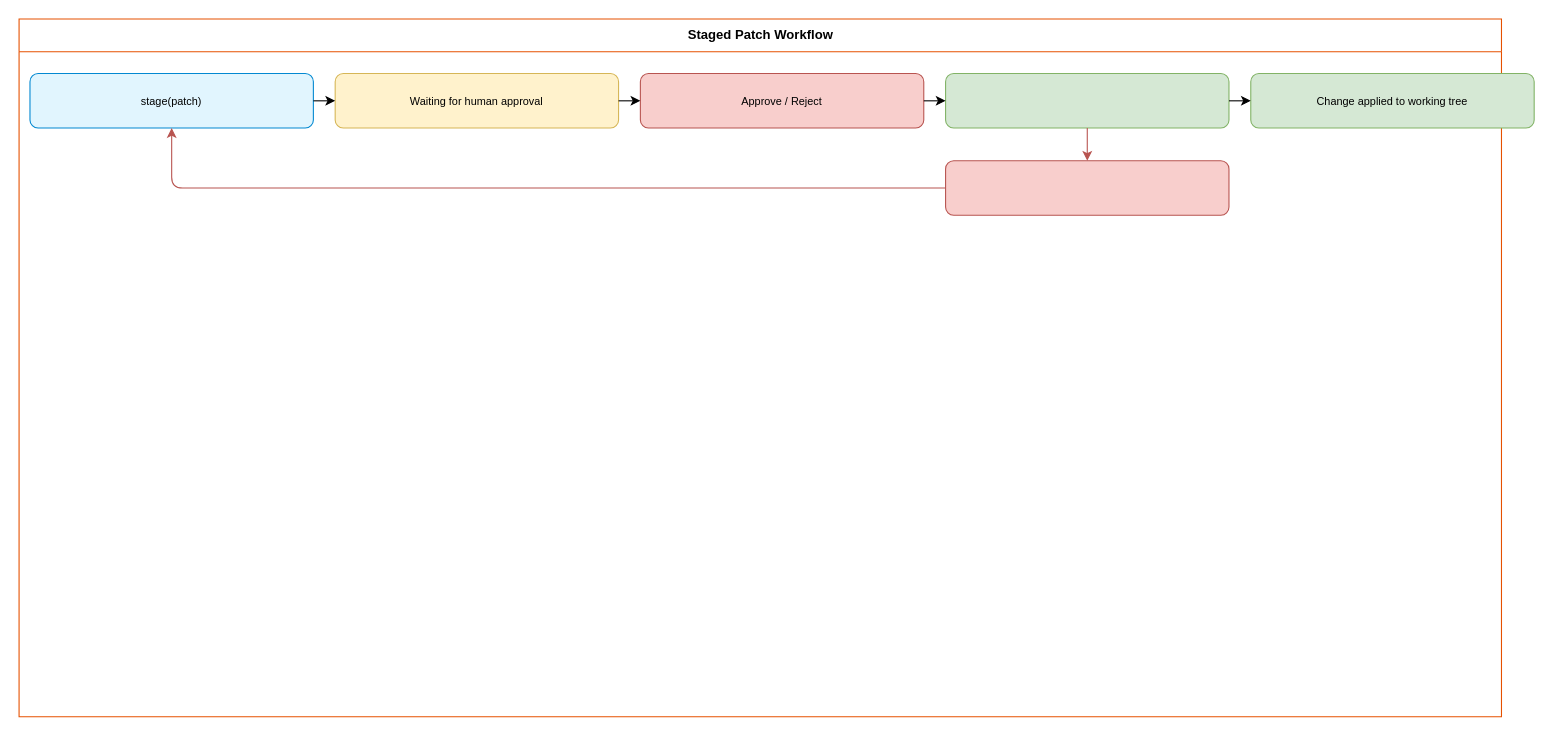
The diagram is 1553 pixels wide and 736 high, and some of its shapes have lost their labels. Each missing label, with the box of its shape:
applyAfterApproval(): (944, 72, 1229, 128)
STALE_BASE_HASH error: (944, 160, 1229, 215)
